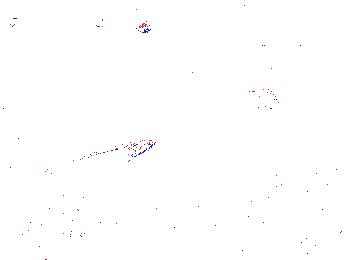glassfish: (41, 136, 159, 188)
red belly glassfish: (231, 88, 283, 111), (127, 15, 154, 36)
redtail glassfish: (291, 28, 346, 53)
